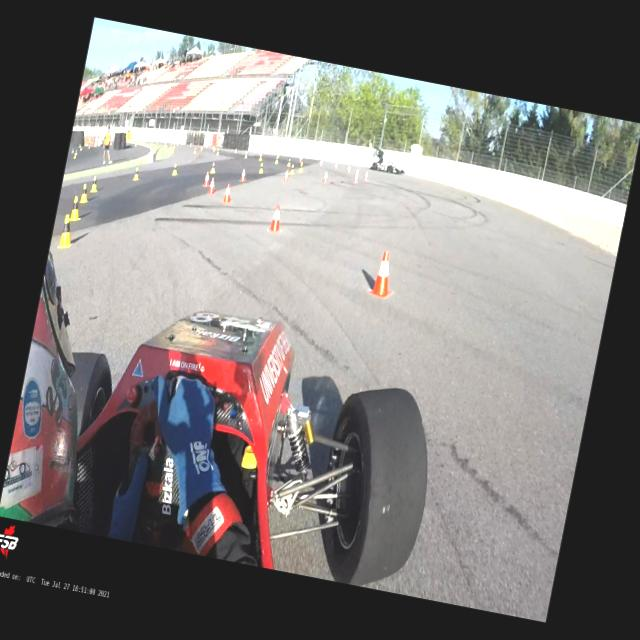orange_cone: (366, 248, 399, 300), (266, 203, 286, 234), (222, 183, 234, 204), (208, 176, 218, 195), (202, 170, 212, 188), (239, 168, 248, 182), (322, 170, 329, 183), (353, 172, 360, 184), (283, 170, 290, 182), (364, 170, 369, 182), (320, 159, 324, 167), (356, 168, 360, 176), (334, 163, 338, 170), (347, 165, 351, 172)
yellow_cone: (56, 212, 78, 250), (68, 195, 86, 222), (80, 183, 92, 204), (90, 176, 100, 193), (132, 168, 142, 182), (209, 162, 217, 174), (171, 164, 179, 176), (258, 162, 264, 175), (289, 164, 296, 175), (298, 162, 304, 172), (286, 158, 292, 166), (274, 156, 278, 164), (259, 153, 263, 161), (244, 152, 248, 158), (217, 148, 220, 155), (73, 154, 76, 159), (75, 150, 78, 155)
